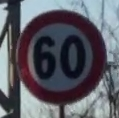limite 60: (13, 10, 109, 105)
